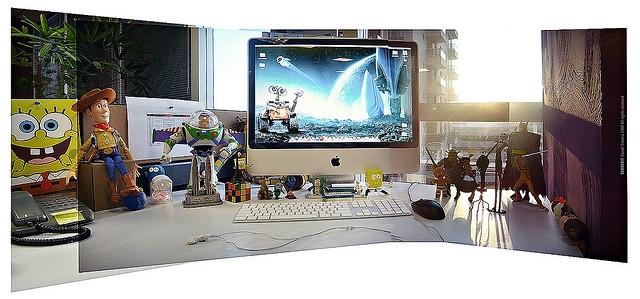apple: (332, 155, 341, 167)
